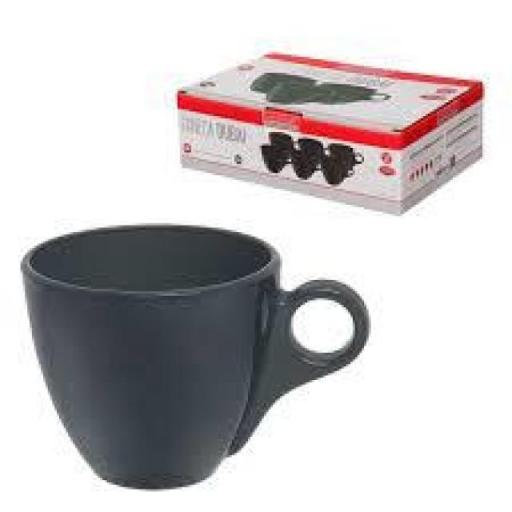glass: (16, 217, 380, 499)
